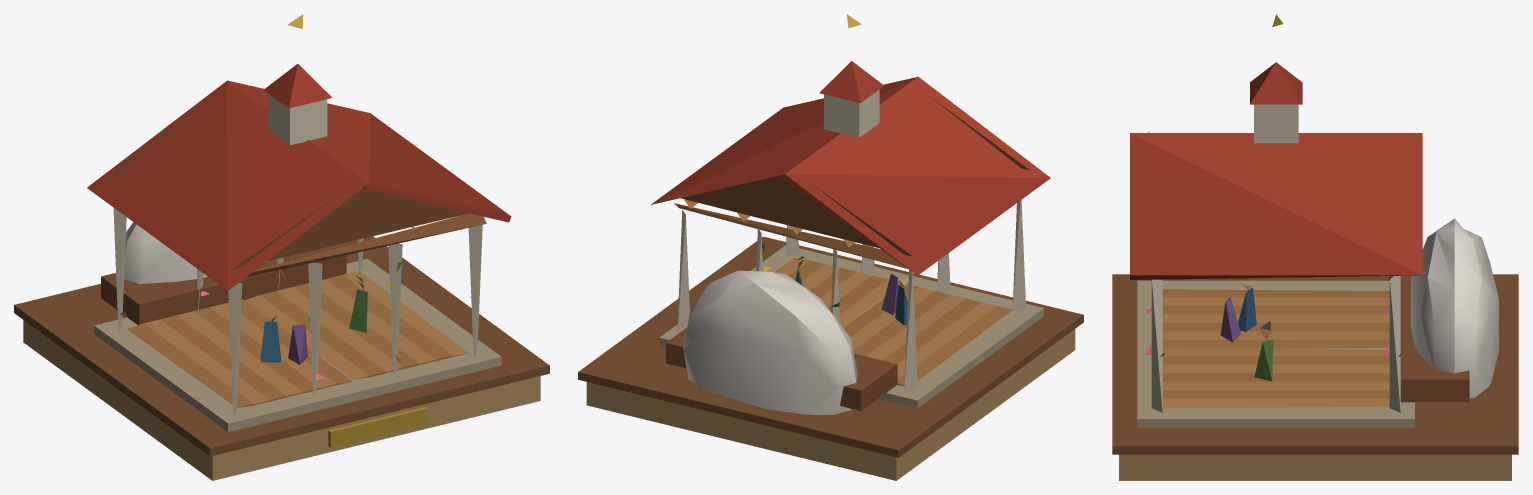
The model's file is pavilion_souvenir.glb.
3 views of the same model, side by side, from view 1: azimuth 30°, elevation 25°; view 2: azimuth 150°, elevation 25°; view 3: azimuth 270°, elevation 25° (orthographic). The views are drawn at different scales.
Visible parts, largest first — view 1: decor-pavilion_souvenir; view 2: decor-pavilion_souvenir; view 3: decor-pavilion_souvenir.
Part boxes in pixels (bbox=[...]): decor-pavilion_souvenir: bbox=[14, 14, 549, 480]; decor-pavilion_souvenir: bbox=[578, 14, 1083, 480]; decor-pavilion_souvenir: bbox=[1112, 14, 1518, 480].
Bounding box in the file's own units: 1.76 × 1.84 × 1.76.
